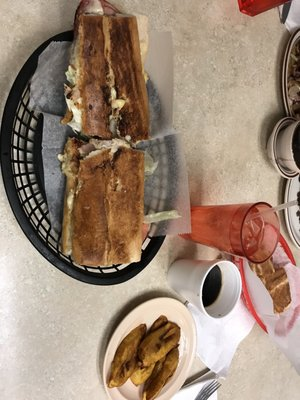burger: (192, 379, 221, 400)
pizza: (200, 261, 242, 319)
salad: (178, 202, 295, 330)
